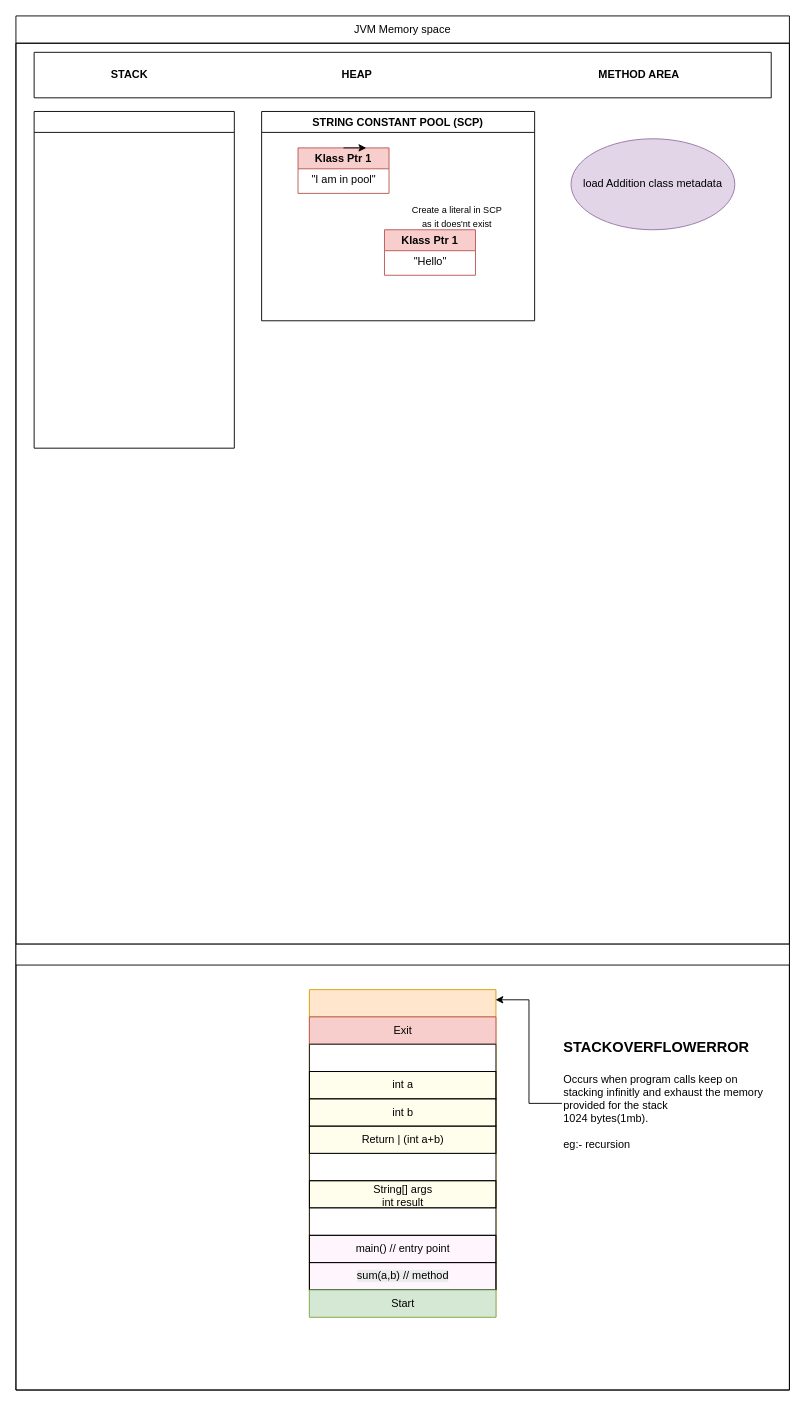
This 805x1406 diagram has some shape labels left out. Each missing label, with the box of its shape:
Global Frames: (308, 1207, 496, 1290)
Main SF: (308, 1153, 496, 1208)
METHOD STACK FRAMES: (15, 943, 789, 1390)
Object References: (33, 111, 234, 448)
STACK-FRAMES: (308, 989, 496, 1317)
sum() SF: (308, 1043, 496, 1153)
